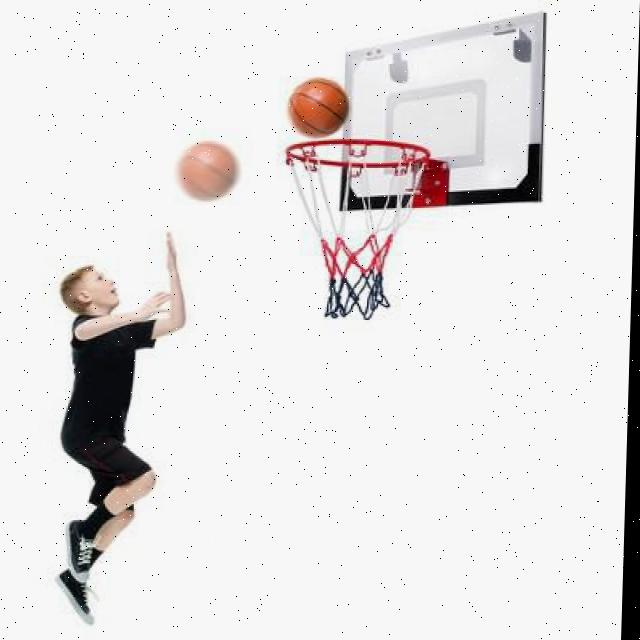basketball: (289, 78, 351, 140), (178, 142, 238, 200)
hoop: (280, 139, 430, 320)
